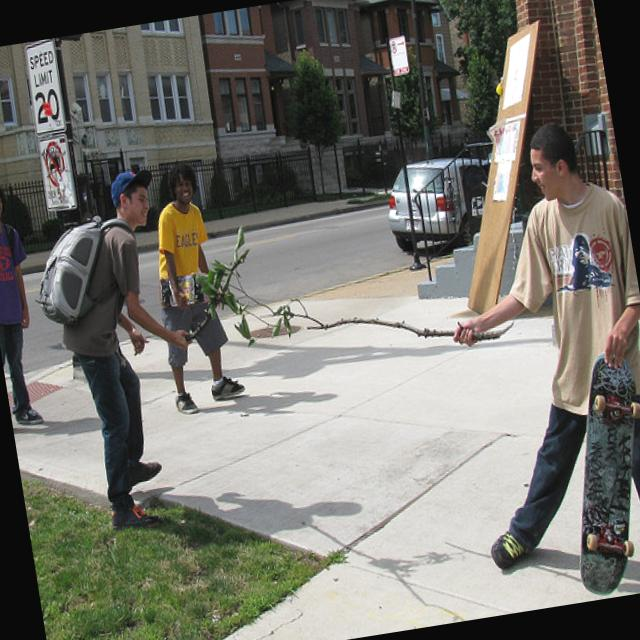Vehicle: (378, 150, 502, 258)
